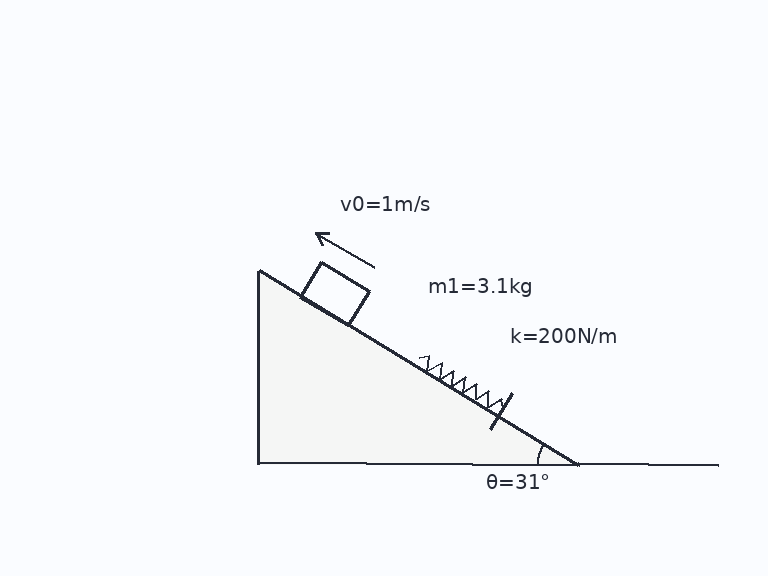block: (298, 260, 371, 328)
ramp: (256, 270, 580, 466)
spring: (418, 354, 505, 410)
